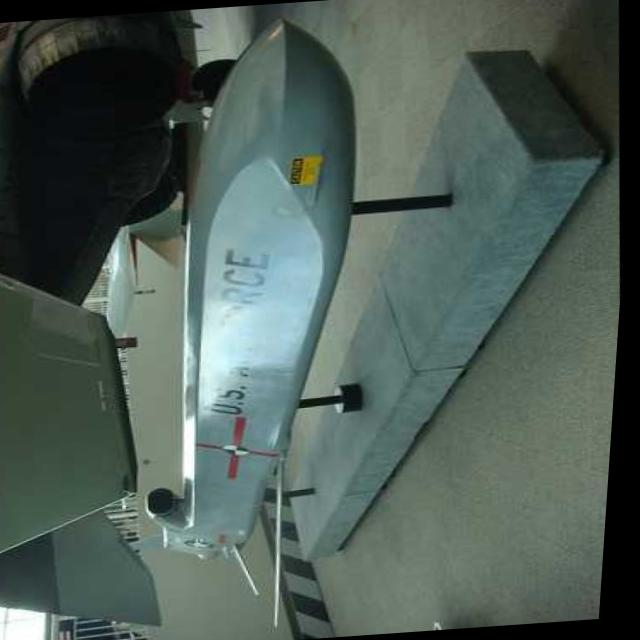missile: (95, 14, 396, 596)
